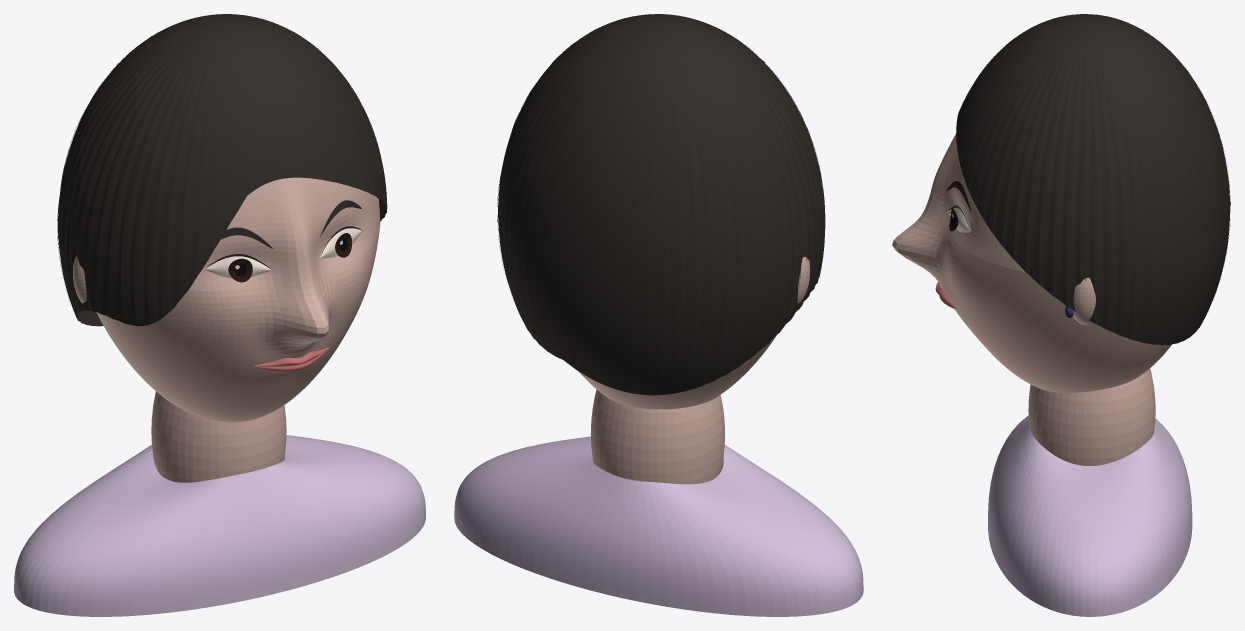
File: Sofia.obj
The picture shows the model from 3 angles, left to right: view 1: azimuth 30°, elevation 25°; view 2: azimuth 150°, elevation 25°; view 3: azimuth 270°, elevation 25°; orthographic projection. The views are drawn at different scales.
Visible parts, largest first — view 1: Side_parted_hair, Lavender_top, Face, Combed_strand, Neck, Eye, Lip, Iris, Brow; view 2: Side_parted_hair, Lavender_top, Combed_strand, Neck, Face; view 3: Side_parted_hair, Lavender_top, Face, Combed_strand, Neck, Ear.
Part boxes in pixels (x1,y1,x2,y2): Side_parted_hair: (58,14,387,326); Lavender_top: (14,435,425,616); Face: (96,177,380,422); Combed_strand: (57,14,385,315); Neck: (151,391,286,482); Eye: (204,228,361,278); Lip: (252,347,329,372); Iris: (228,233,351,282); Brow: (221,200,361,248); Side_parted_hair: (498,14,825,395); Lavender_top: (454,436,863,616); Combed_strand: (497,14,825,384); Neck: (590,389,724,484); Face: (578,335,776,409); Side_parted_hair: (956,14,1229,345); Lavender_top: (988,415,1192,616); Face: (892,133,1171,392); Combed_strand: (961,14,1230,331); Neck: (1028,368,1155,465); Ear: (1072,278,1095,324).
Size of the model in its own units: 2.24 by 2.86 by 1.76.
